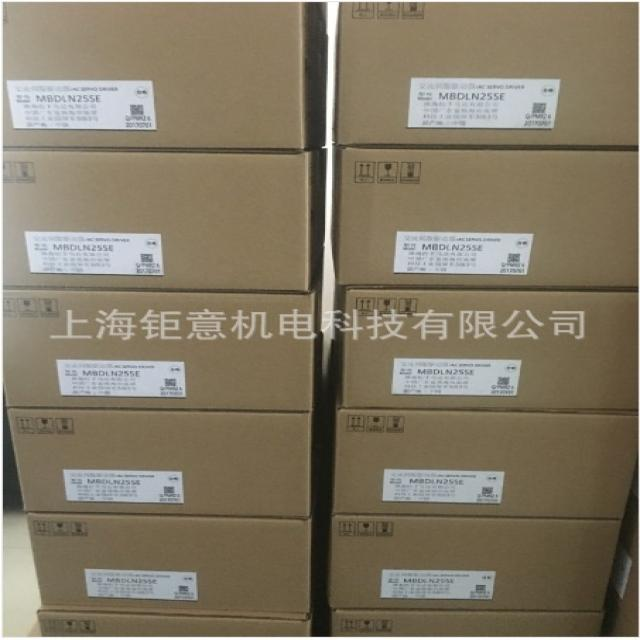box: (1, 3, 328, 149), (333, 1, 640, 148), (329, 147, 640, 292), (1, 149, 315, 292), (329, 285, 640, 410), (1, 290, 316, 410), (329, 406, 640, 519), (6, 409, 312, 518), (27, 512, 312, 612), (331, 515, 622, 610), (40, 607, 314, 638), (333, 611, 605, 637), (602, 484, 640, 635)
